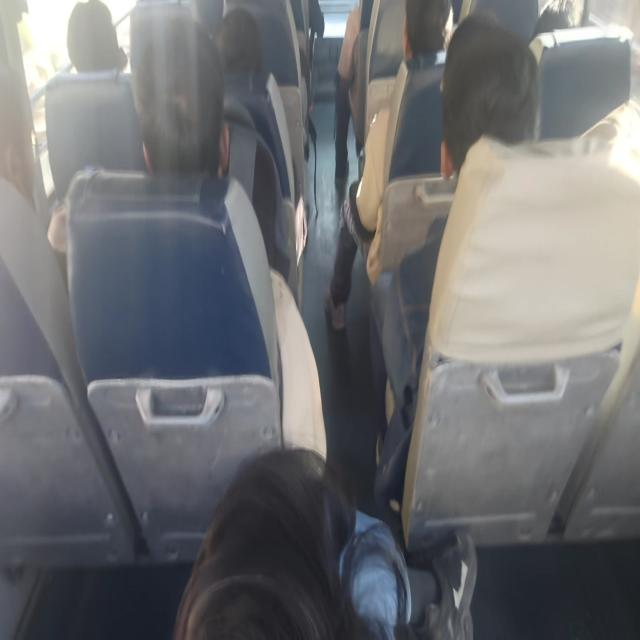person: (48, 2, 327, 459), (370, 12, 540, 510), (173, 446, 412, 638), (324, 0, 453, 331), (215, 8, 308, 267), (128, 3, 230, 178), (332, 1, 362, 188), (66, 0, 128, 73), (530, 0, 588, 40)
